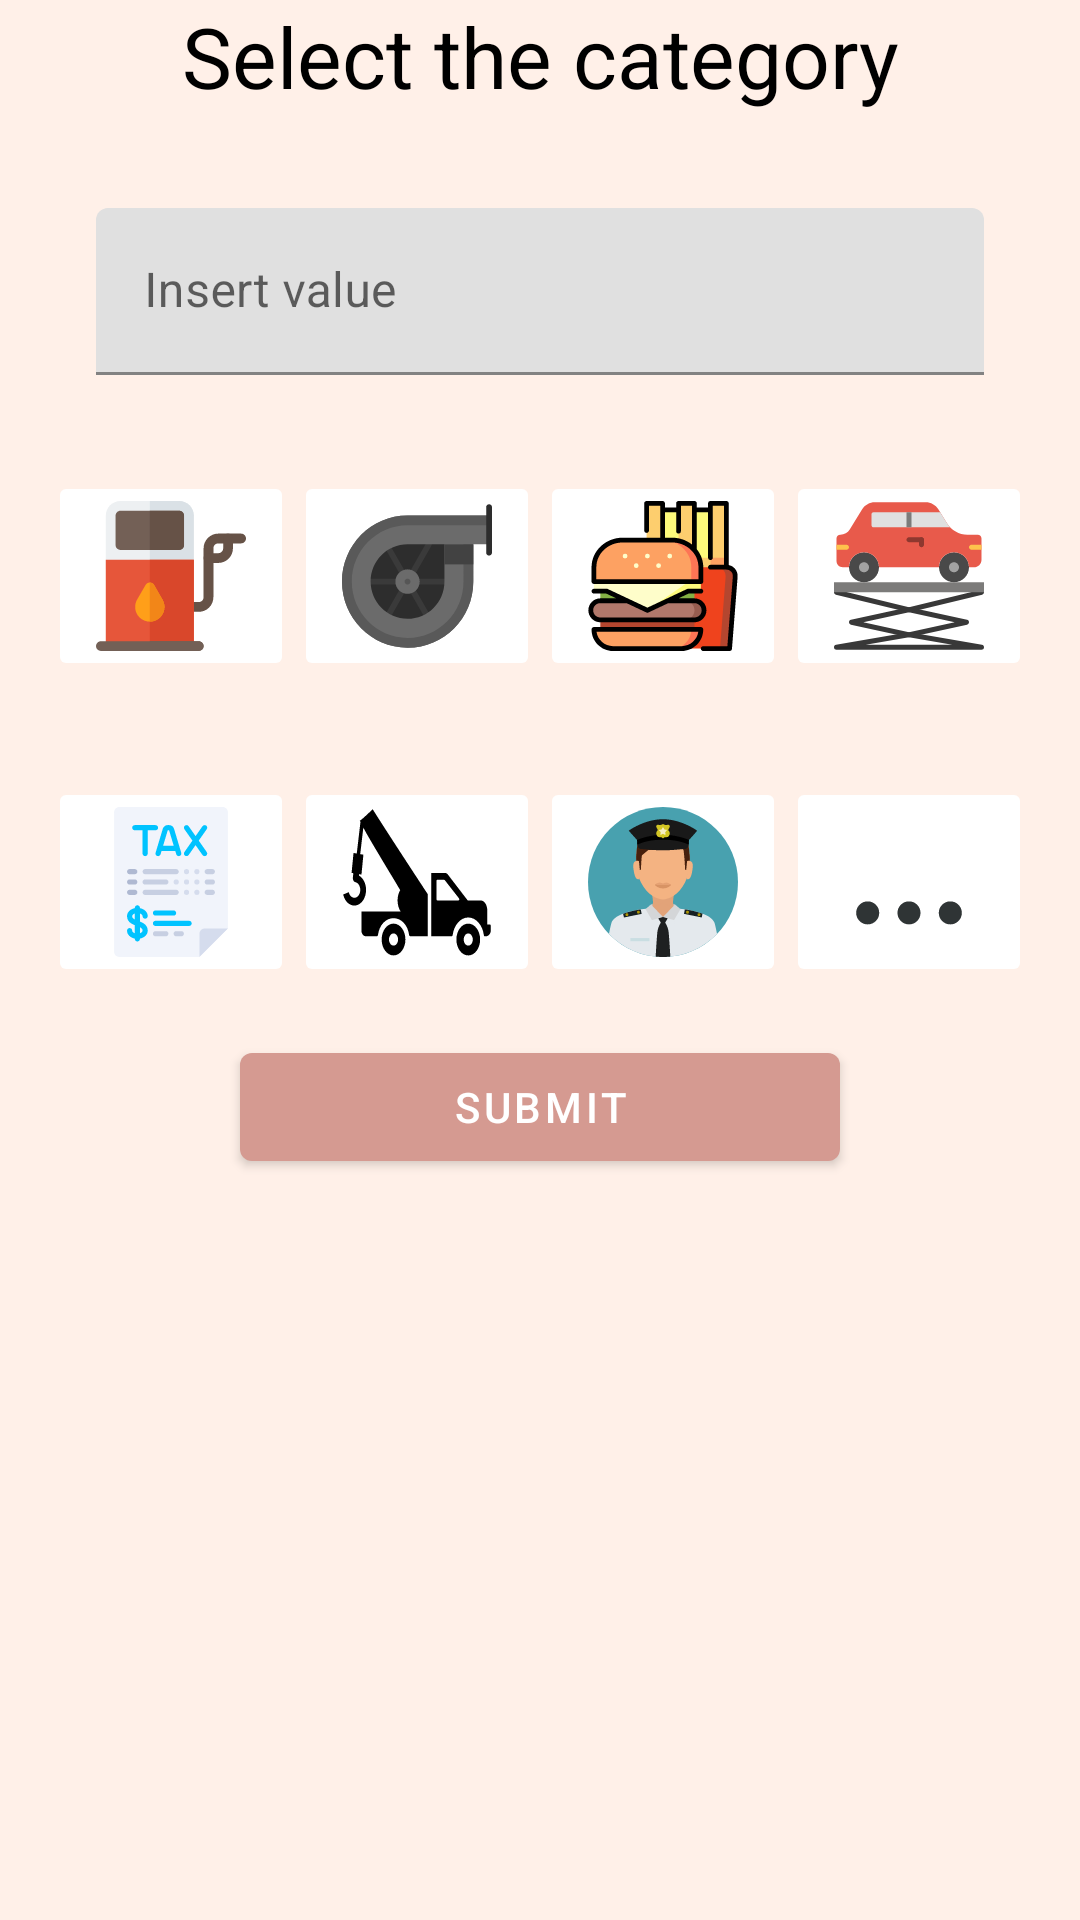

Screen size 1080w x 1920h. Icon name, then its center in pixels as (x,y):
Evacuation: (417,882)
Fine: (663,882)
Food: (663,576)
Fuel: (171,576)
Repair and service: (909,576)
Spare parts: (417,576)
